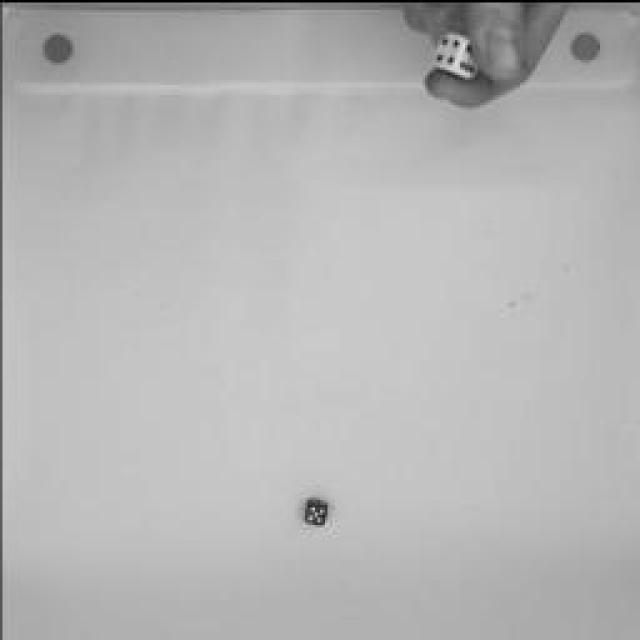dice_5: (299, 493, 329, 525)
